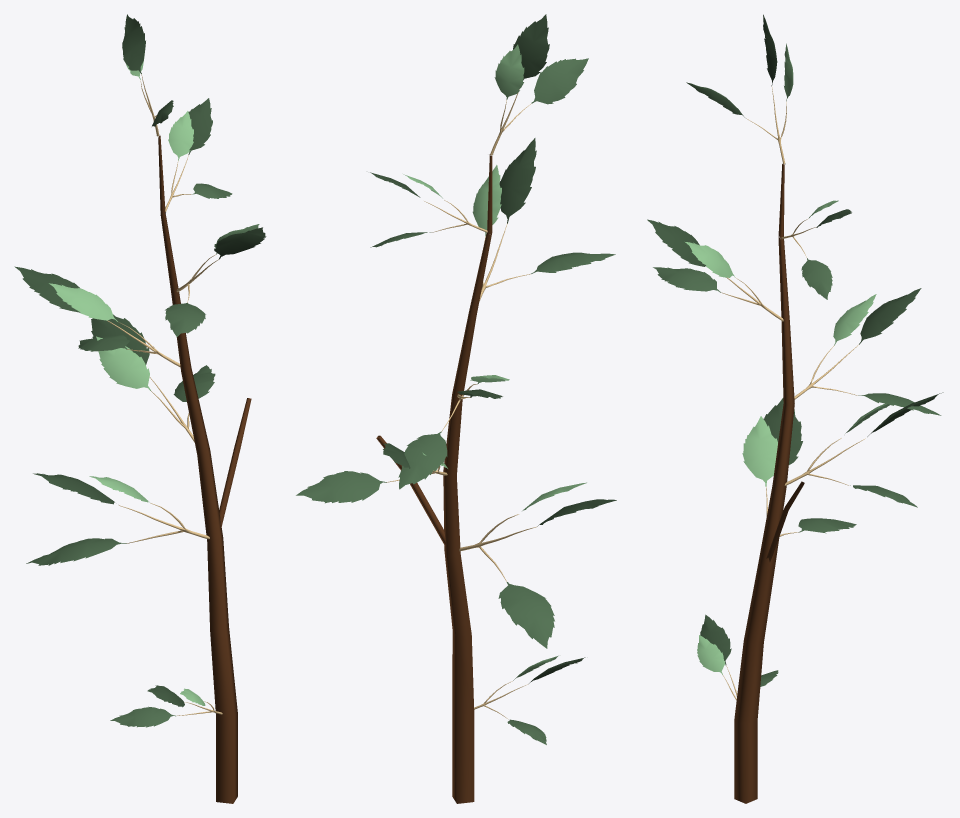
File: Tree10.fbx
3 views of the same model, side by side, from view 1: azimuth 30°, elevation 25°; view 2: azimuth 150°, elevation 25°; view 3: azimuth 270°, elevation 25° (orthographic). The views are drawn at different scales.
Visible parts, largest first — view 1: Árbol.002, Hojas|tree|Dupli|4, Hojas|tree|Dupli|, Hojas|tree|Dupli|5, Hojas|tree|Dupli|3, Hojas|tree|Dupli|2, Hojas|tree|Dupli|6, Hojas|tree|Dupli|1; view 2: Árbol.002, Hojas|tree|Dupli|1, Hojas|tree|Dupli|2, Hojas|tree|Dupli|5, Hojas|tree|Dupli|, Hojas|tree|Dupli|4, Hojas|tree|Dupli|6, Hojas|tree|Dupli|3; view 3: Árbol.002, Hojas|tree|Dupli|5, Hojas|tree|Dupli|2, Hojas|tree|Dupli|, Hojas|tree|Dupli|6, Hojas|tree|Dupli|1, Hojas|tree|Dupli|4, Hojas|tree|Dupli|3.
Boxes of the visible parts, box(x1,y1,x2,y2) form: Árbol.002: box(158, 135, 251, 803); Hojas|tree|Dupli|4: box(91, 314, 215, 442); Hojas|tree|Dupli|: box(14, 266, 180, 367); Hojas|tree|Dupli|5: box(26, 473, 209, 565); Hojas|tree|Dupli|3: box(165, 98, 232, 211); Hojas|tree|Dupli|2: box(165, 224, 266, 336); Hojas|tree|Dupli|6: box(110, 685, 222, 727); Hojas|tree|Dupli|1: box(122, 14, 173, 136); Árbol.002: box(376, 154, 492, 803); Hojas|tree|Dupli|1: box(490, 14, 588, 155); Hojas|tree|Dupli|2: box(472, 138, 615, 301); Hojas|tree|Dupli|5: box(459, 482, 616, 648); Hojas|tree|Dupli|: box(398, 375, 509, 489); Hojas|tree|Dupli|4: box(296, 443, 447, 503); Hojas|tree|Dupli|6: box(474, 655, 585, 744); Hojas|tree|Dupli|3: box(370, 172, 487, 247); Árbol.002: box(734, 164, 804, 803); Hojas|tree|Dupli|5: box(742, 398, 856, 536); Hojas|tree|Dupli|2: box(647, 219, 783, 321); Hojas|tree|Dupli|: box(794, 288, 941, 415); Hojas|tree|Dupli|6: box(697, 614, 778, 700); Hojas|tree|Dupli|1: box(686, 14, 793, 163); Hojas|tree|Dupli|4: box(784, 392, 943, 507); Hojas|tree|Dupli|3: box(781, 200, 851, 299).
Bounding box in the file's own units: 102 × 317 × 116.
